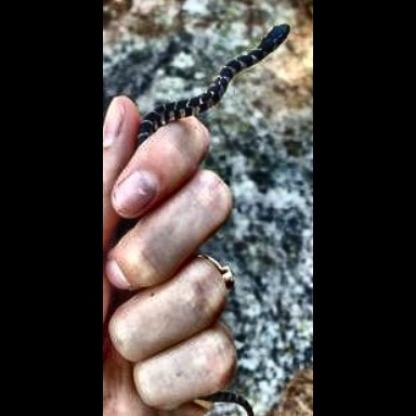Snake: (105, 3, 301, 151)
